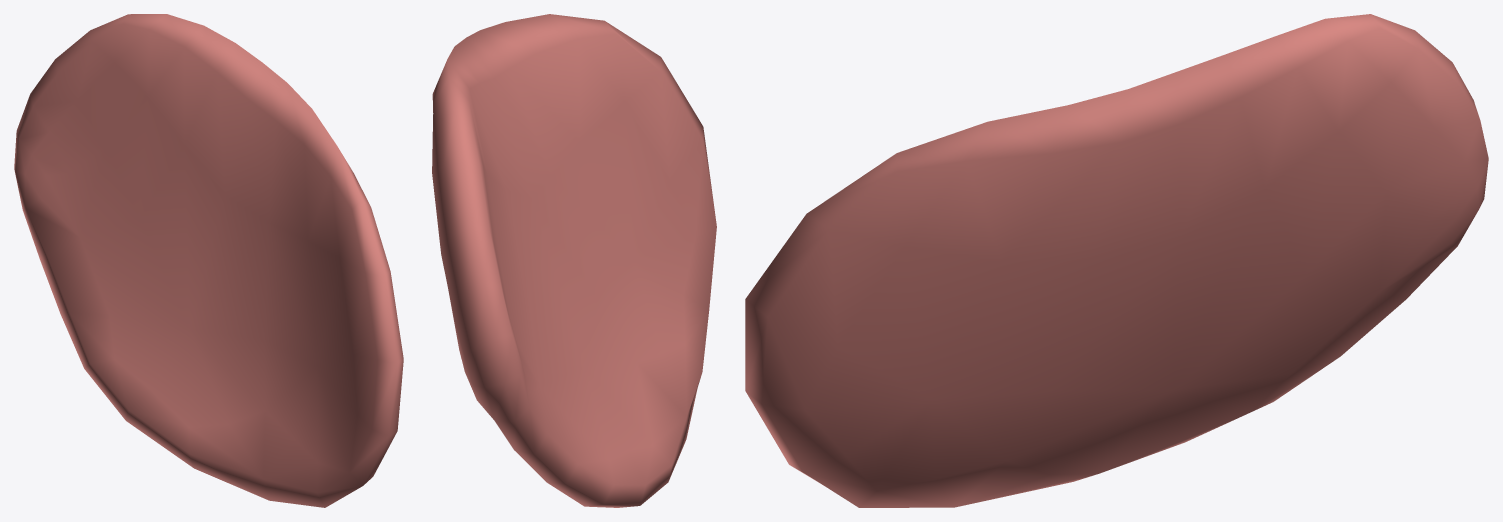
3 renders of one model, left to right at view 1: azimuth 30°, elevation 25°; view 2: azimuth 150°, elevation 25°; view 3: azimuth 270°, elevation 25°, orthographic. The views are drawn at different scales.
Parts seen in each view (by area): view 1: ZA_99aea7419cd49461; view 2: ZA_99aea7419cd49461; view 3: ZA_99aea7419cd49461.
Part boxes in pixels (<box>): ZA_99aea7419cd49461: <box>14,14,403,507</box>; ZA_99aea7419cd49461: <box>432,14,716,507</box>; ZA_99aea7419cd49461: <box>745,14,1488,507</box>.
Size of the model in its own units: 0.00214 by 0.00467 by 0.0062.
